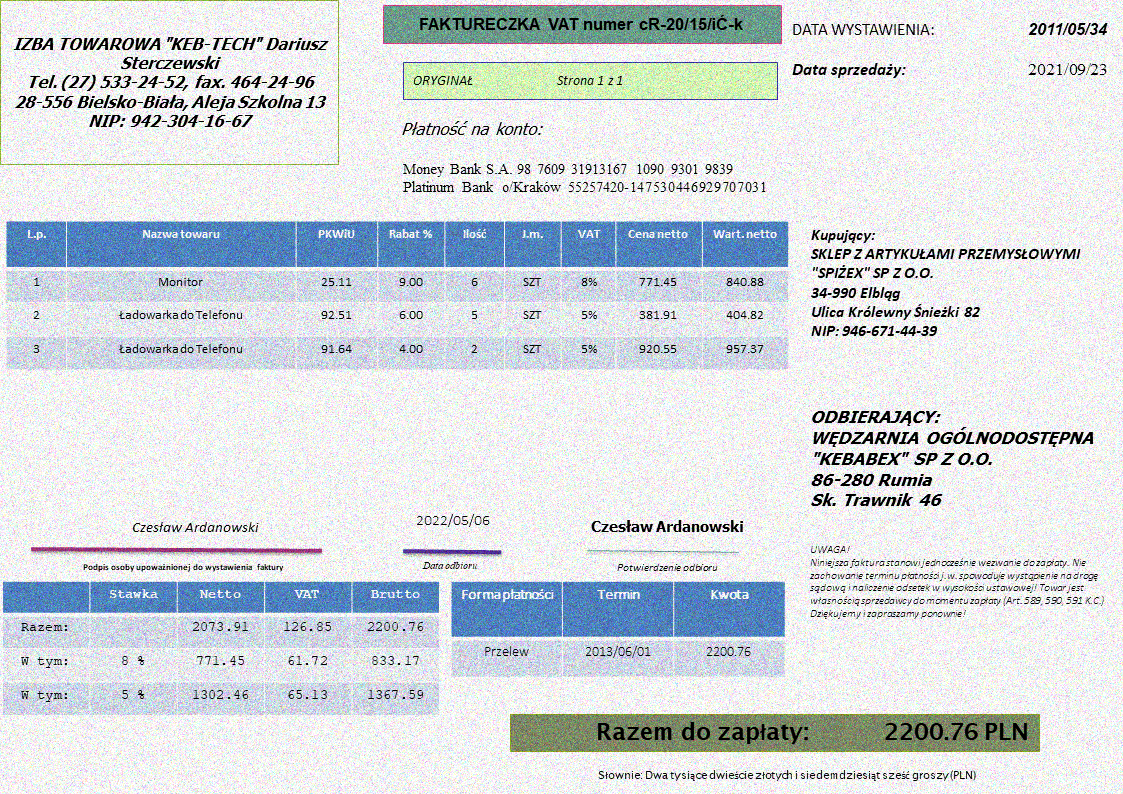Table: (4, 218, 791, 372), (1, 579, 441, 717), (449, 578, 787, 679)
TextBox: (807, 224, 1086, 341), (10, 31, 330, 133), (808, 407, 1098, 511), (807, 540, 1107, 622), (398, 158, 770, 196), (593, 718, 1031, 747), (594, 766, 979, 785), (417, 12, 747, 34), (409, 69, 625, 90), (398, 117, 546, 140), (587, 515, 747, 536), (78, 559, 287, 574), (789, 18, 936, 39), (130, 516, 262, 536), (790, 59, 908, 81), (1026, 18, 1111, 39), (1025, 59, 1109, 79), (613, 560, 720, 575), (414, 511, 491, 530), (418, 558, 480, 572)
